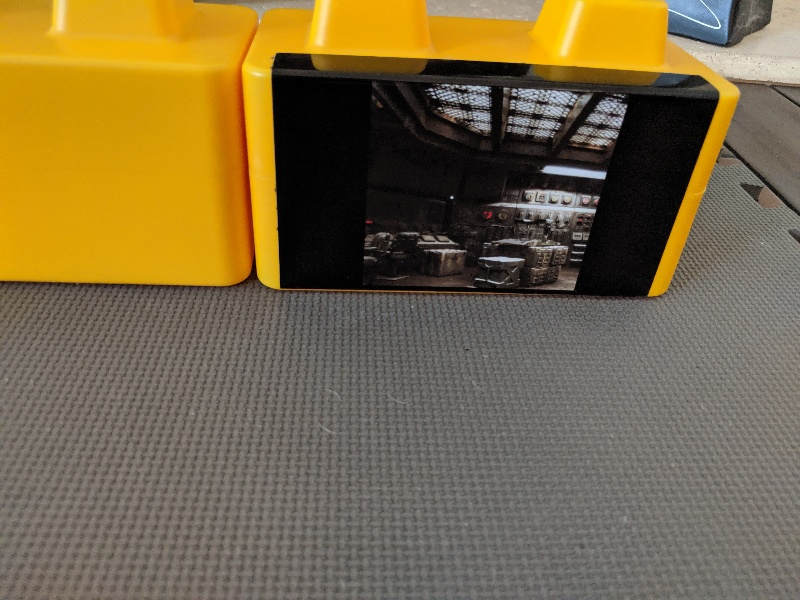Skystone: (264, 46, 727, 313)
